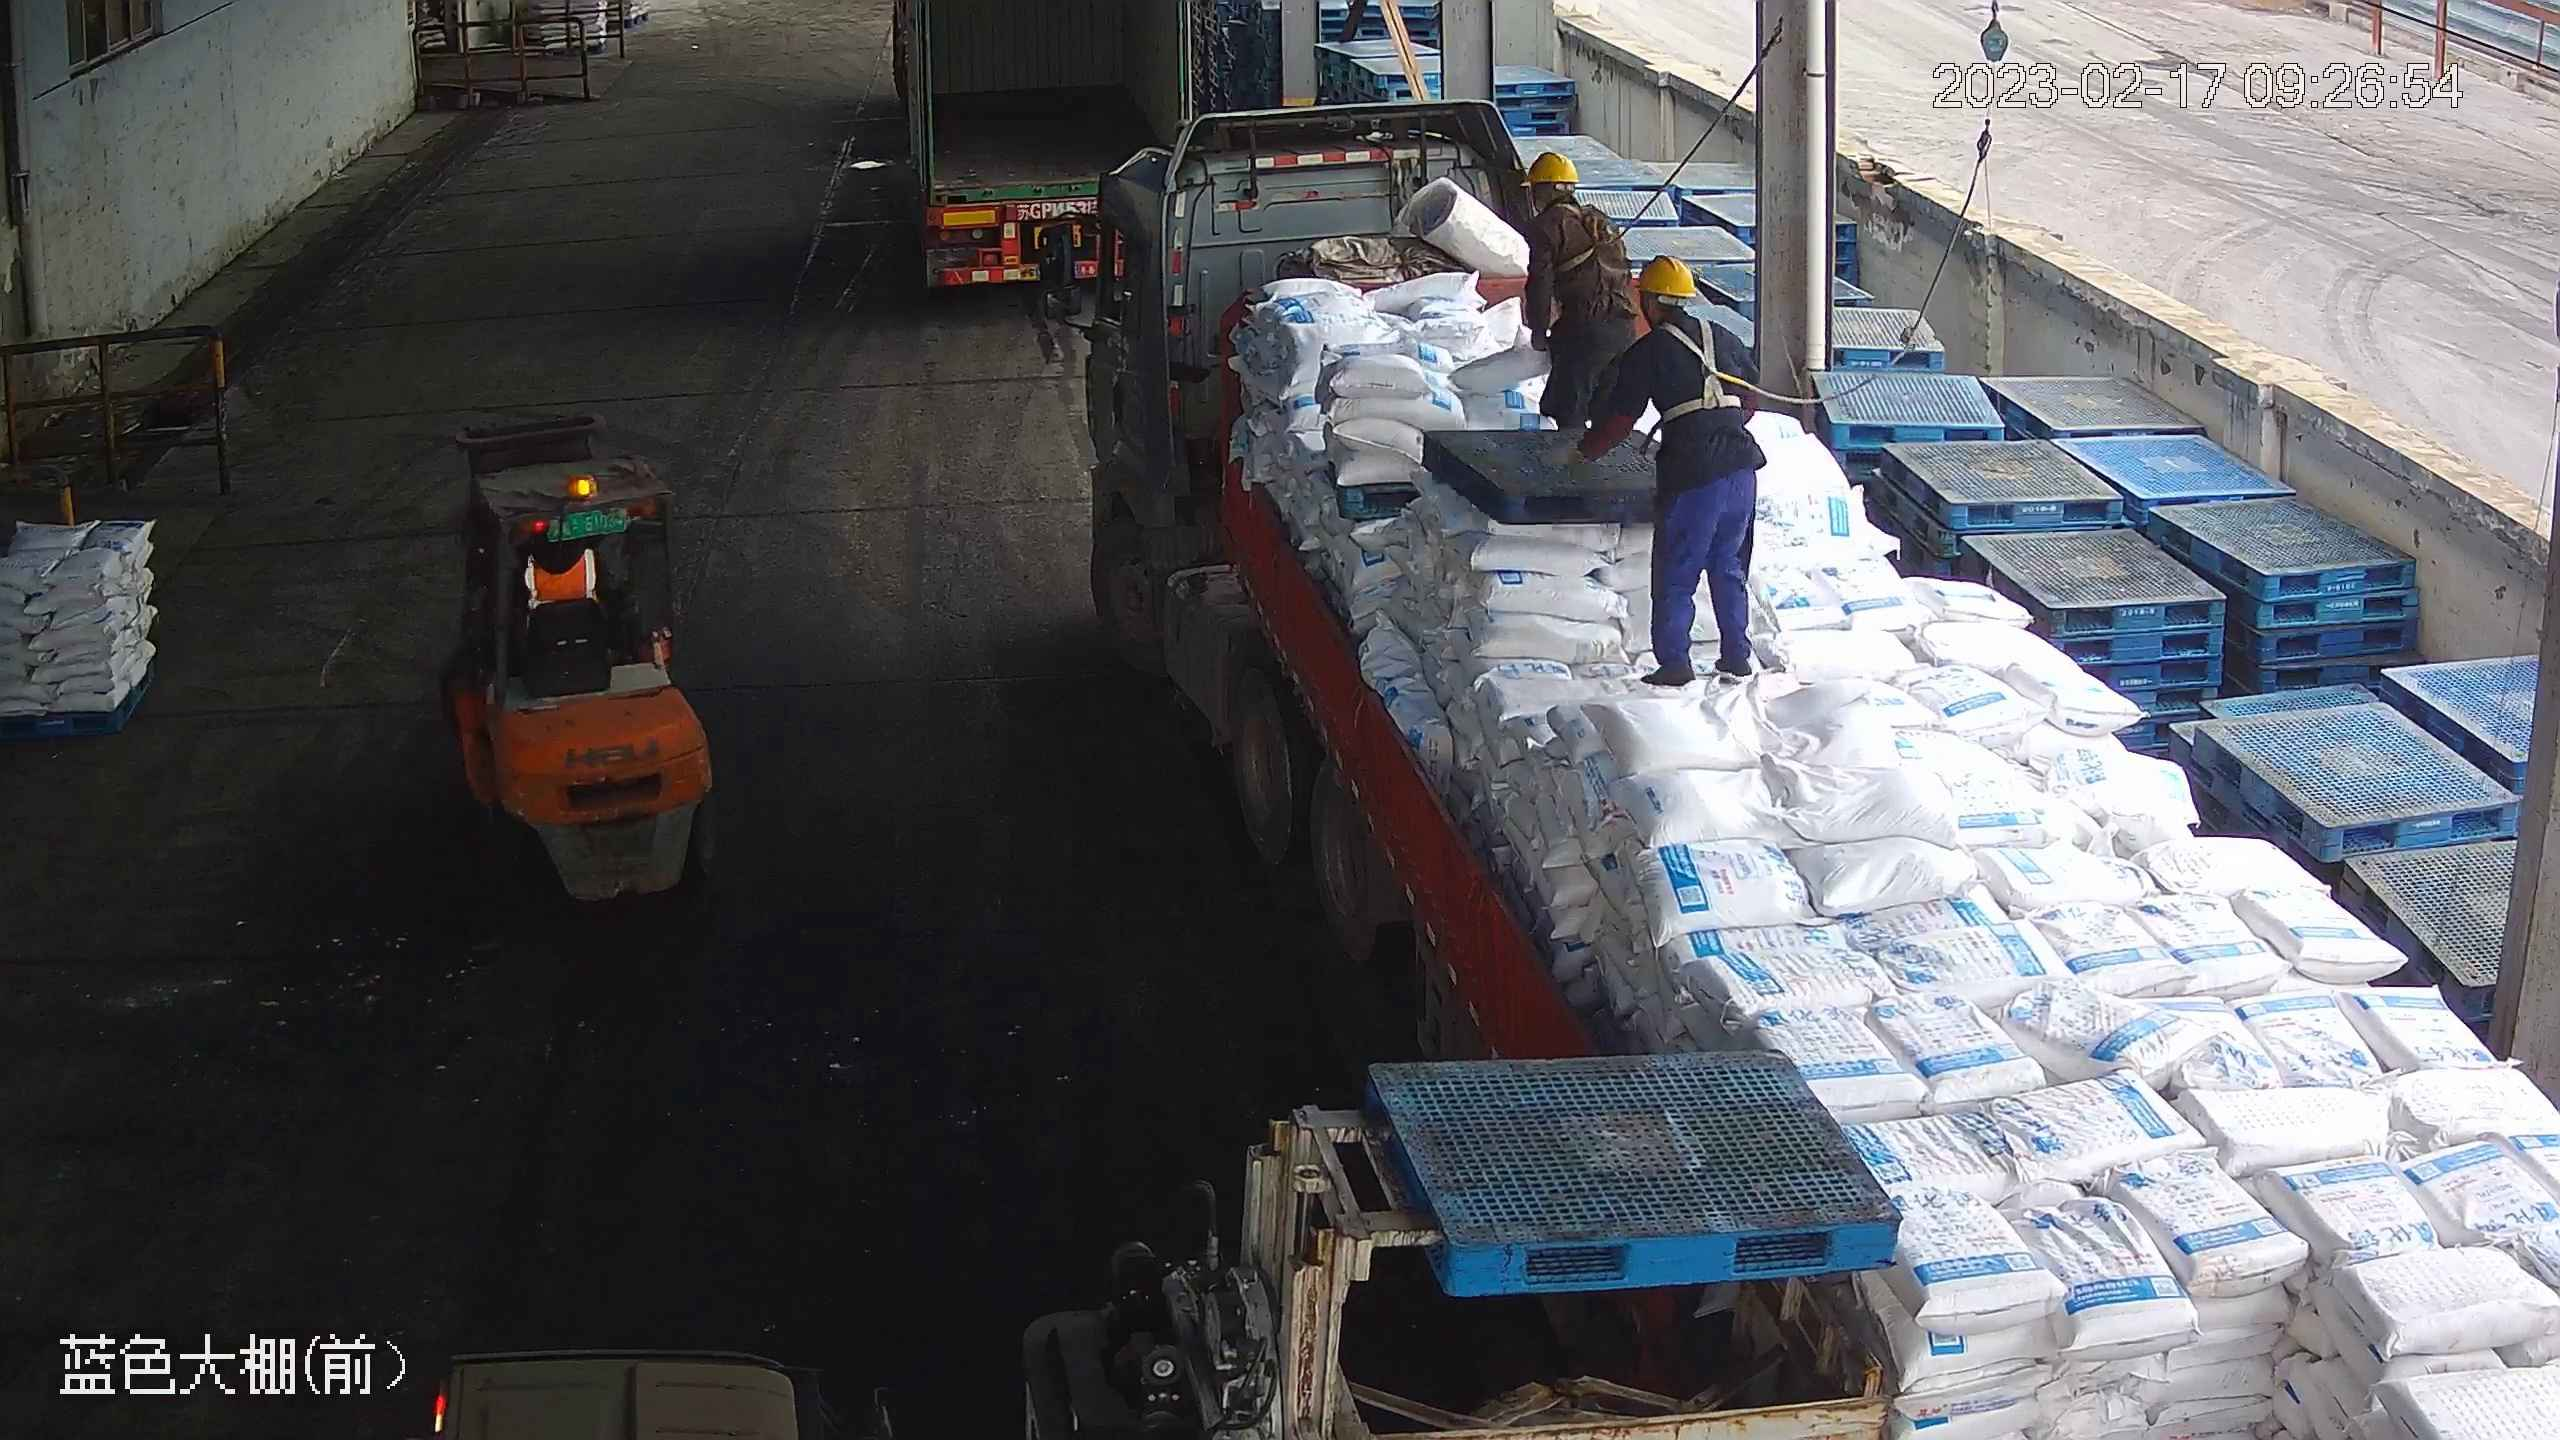belt: (1650, 313, 1756, 426), (1547, 199, 1628, 272)
head: (1613, 254, 1744, 381), (1519, 149, 1618, 253)
helmet: (1632, 254, 1694, 303), (1521, 150, 1578, 194)
people: (1572, 257, 1772, 688), (1516, 150, 1632, 437)
truck: (1058, 88, 2559, 1440), (882, 1, 1198, 301)
